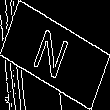N_SW: (33, 23, 77, 87)
